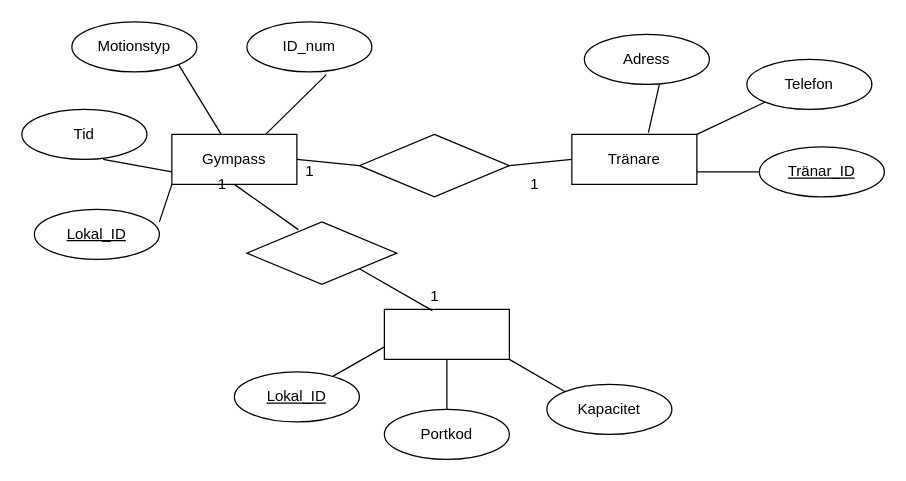
Image size: 906x481. Some labels were removed from this diagram. Each missing label, with the centre of its shape:
Leder: [433,165]
Lokal: [446,333]
Plats: [321,252]
